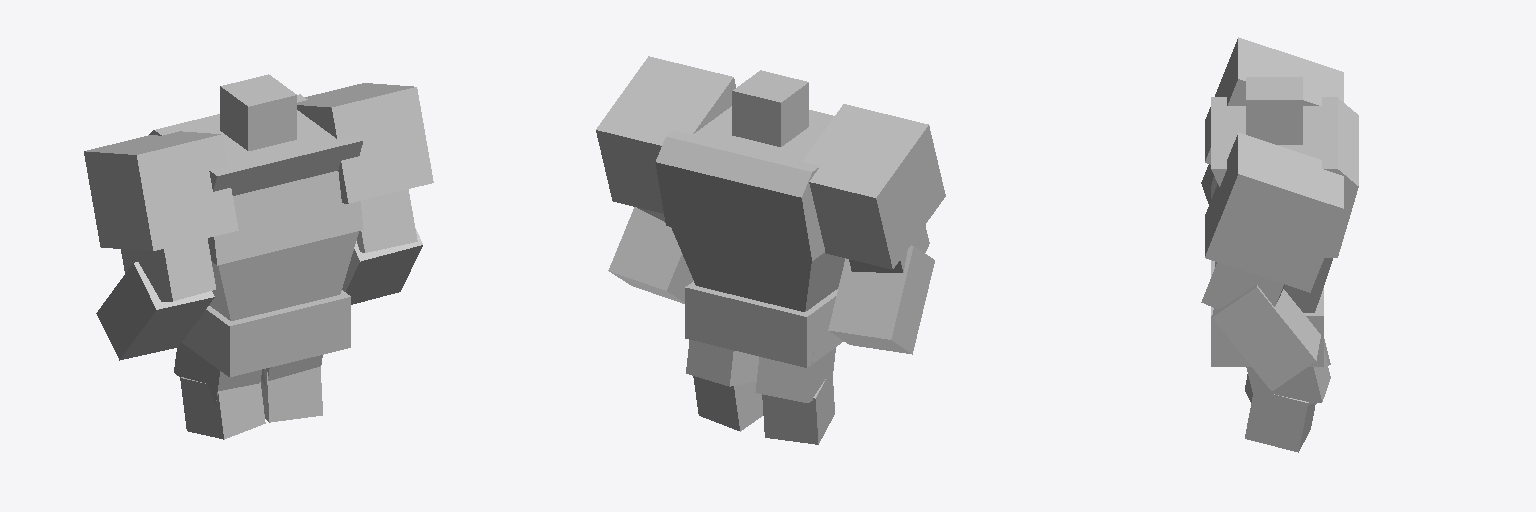
Rendered from FluSter.obj.
3 renders of one model, left to right at view 1: azimuth 30°, elevation 25°; view 2: azimuth 150°, elevation 25°; view 3: azimuth 270°, elevation 25°, orthographic.
Visible parts, largest first — view 1: cube; view 2: cube; view 3: cube.
Boxes of the visible parts, box(x1,y1,x2,y2) form: cube: box(84, 74, 433, 439); cube: box(596, 56, 945, 444); cube: box(1201, 37, 1358, 452).
Bounding box in the file's own units: 0.7253 × 0.8202 × 0.3502.